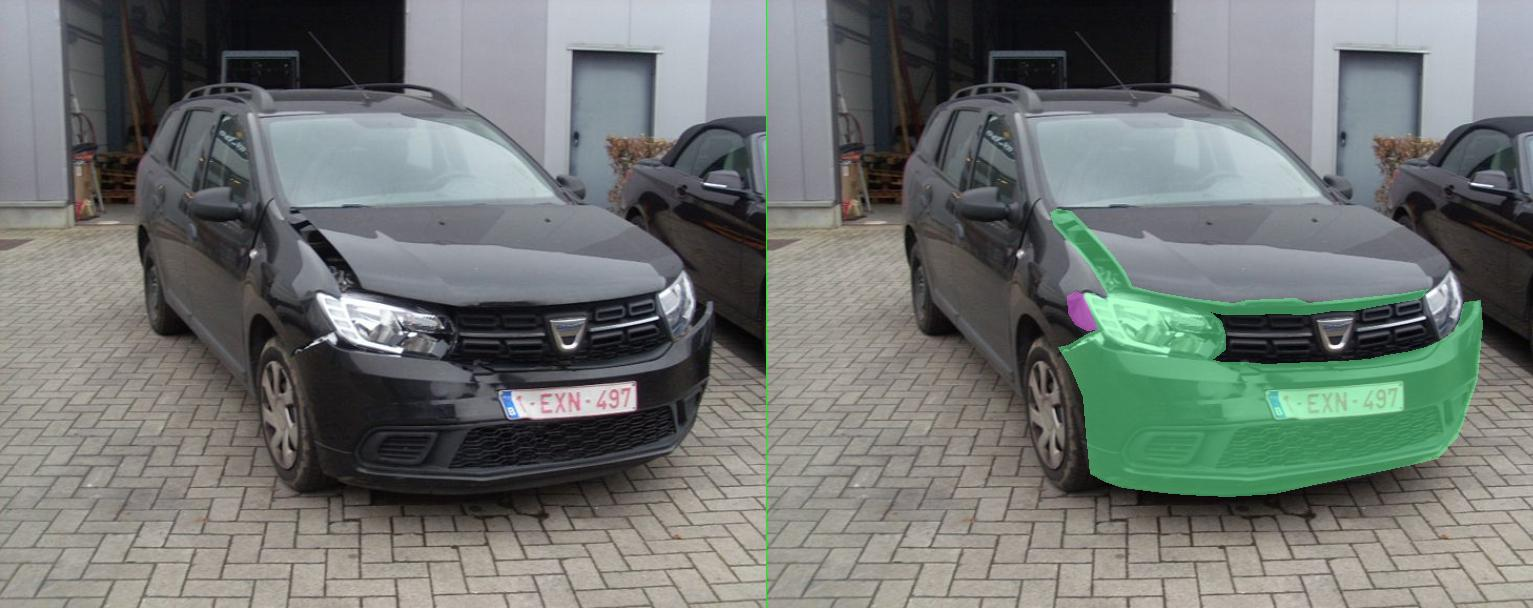Broken part: (582, 300, 1431, 496), (566, 209, 1323, 314), (630, 290, 917, 360)
Dent: (600, 291, 660, 330)
